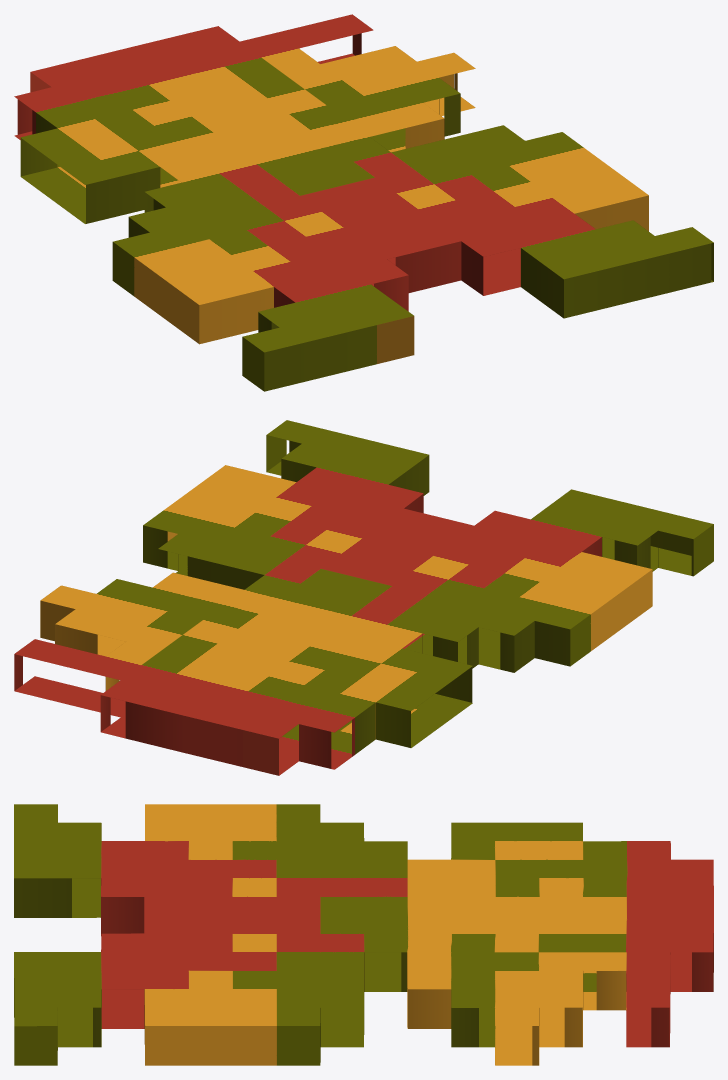
File: Mario.fbx
3 views of the same model, one above another, from view 1: azimuth 30°, elevation 25°; view 2: azimuth 150°, elevation 25°; view 3: azimuth 270°, elevation 25° (orthographic). The views are drawn at different scales.
Parts seen in each view (by area): view 1: Cube; view 2: Cube; view 3: Cube.
Boxes of the visible parts, <box> form: Cube: <box>14,14,713,391</box>; Cube: <box>14,420,713,775</box>; Cube: <box>14,804,713,1065</box>.
Bounding box in the file's own units: 75.02 × 6.24 × 99.99.
1 material, 1 textured.
